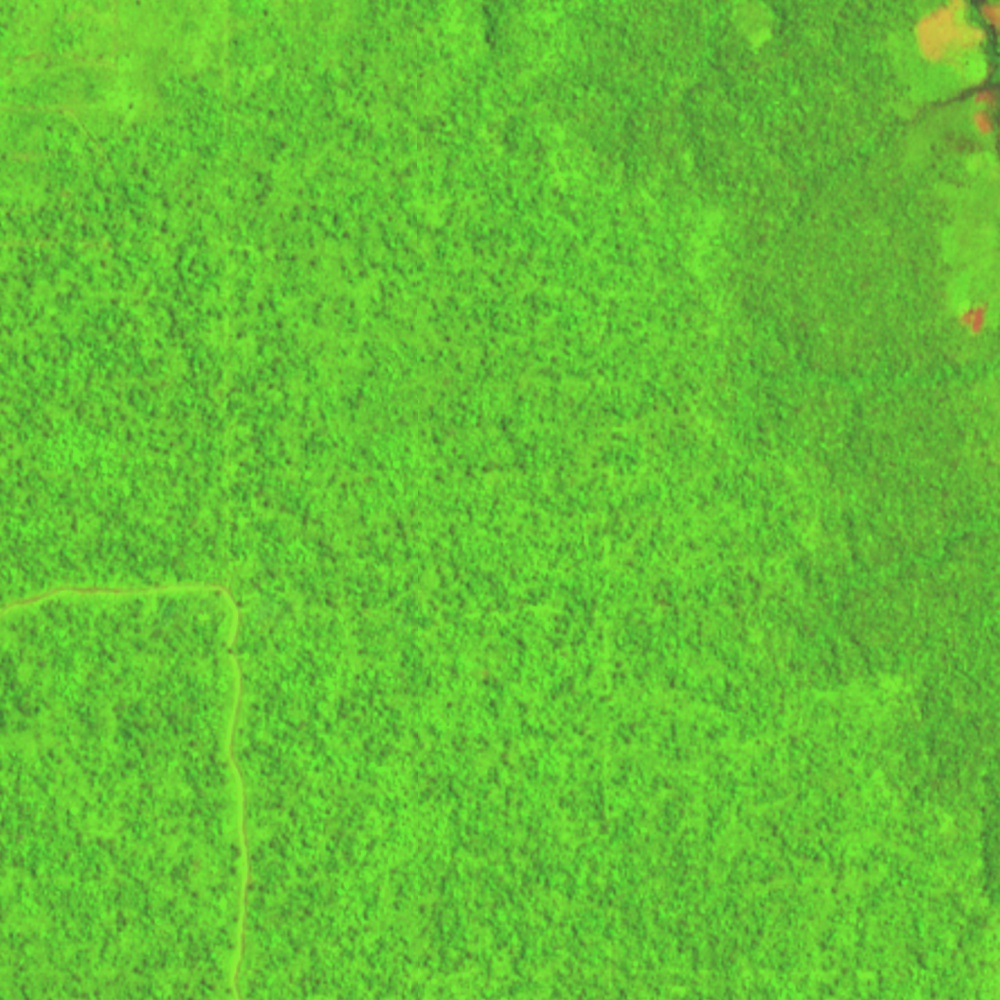legal: (899, 1, 1000, 141), (949, 154, 1000, 338)
